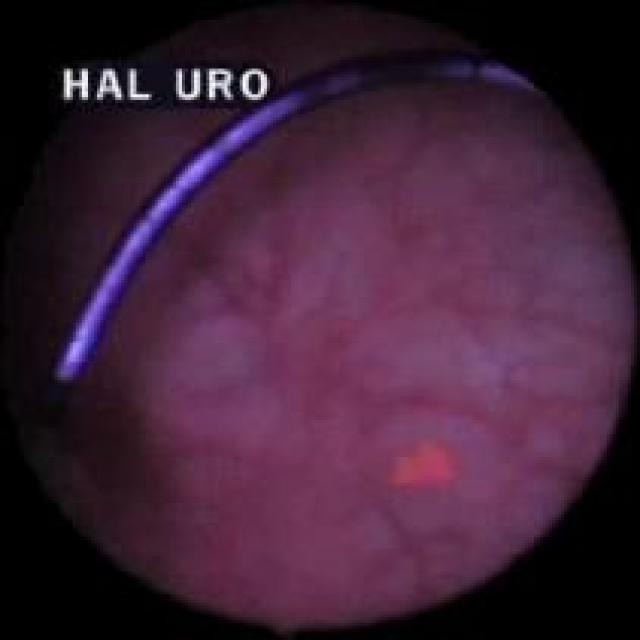color misalignment: (54, 56, 274, 114)
contrast: (23, 91, 162, 568)
instrument: (64, 62, 576, 392)
